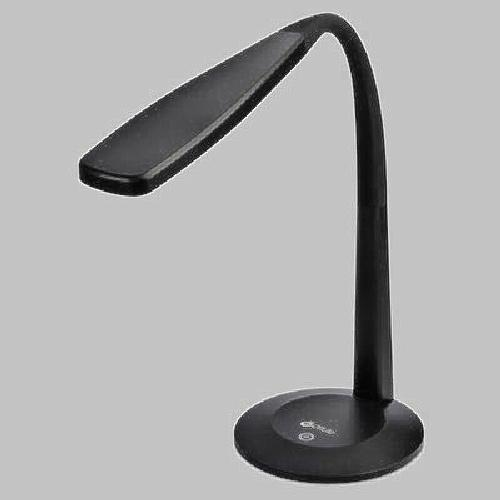lamp: (91, 20, 429, 472)
